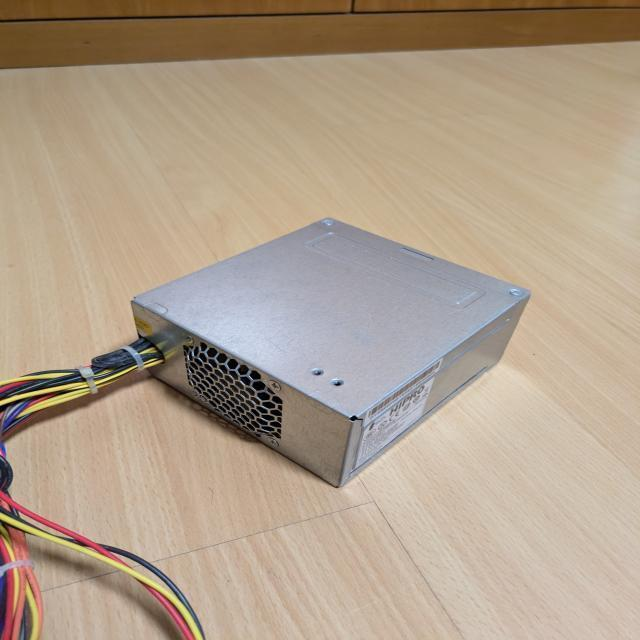PSU: (129, 216, 532, 489)
